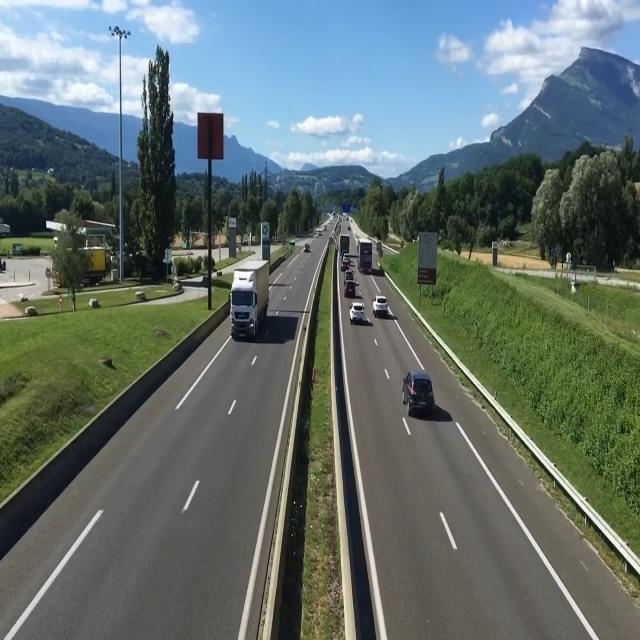car: (402, 368, 437, 421), (371, 293, 394, 325), (348, 302, 366, 328), (343, 280, 356, 300)
truck: (230, 259, 267, 343), (356, 238, 375, 275)
